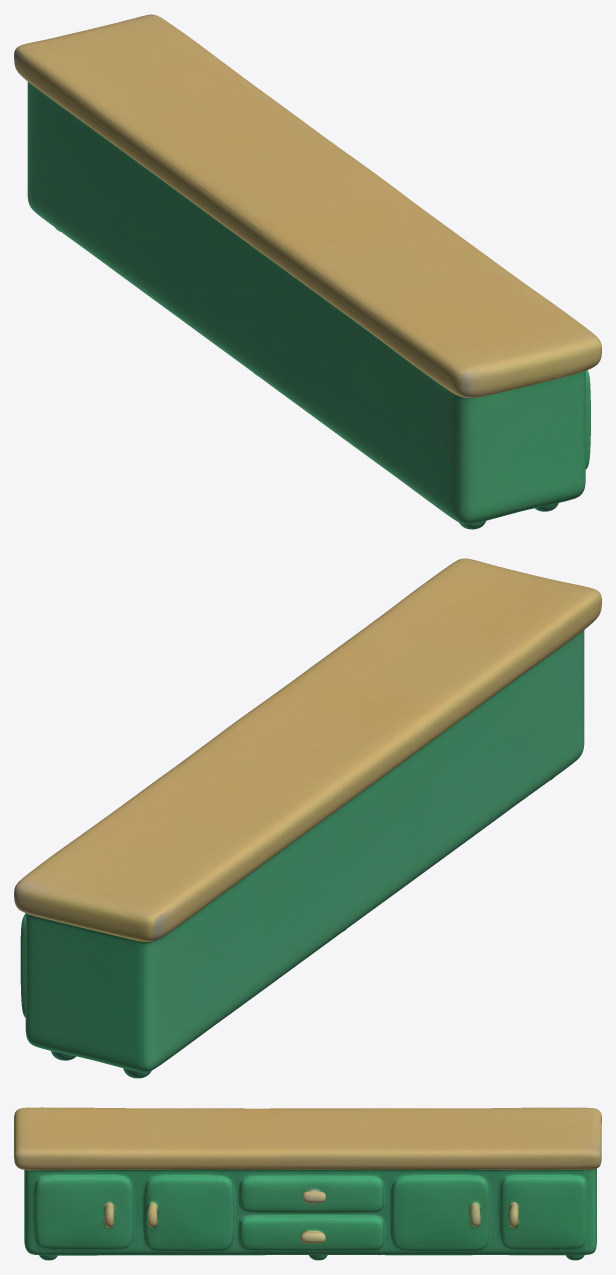
Rendered from DrawerCounterLong.glb.
3 views of the same model, one above another, from view 1: azimuth 30°, elevation 25°; view 2: azimuth 150°, elevation 25°; view 3: azimuth 270°, elevation 25° (orthographic). The views are drawn at different scales.
Parts seen in each view (by area): view 1: tripo_node_20a0524b-429d-4f46-9d28-1a09ac00f2f7; view 2: tripo_node_20a0524b-429d-4f46-9d28-1a09ac00f2f7; view 3: tripo_node_20a0524b-429d-4f46-9d28-1a09ac00f2f7.
Boxes of the visible parts, x1,y1,x2,y2 form: tripo_node_20a0524b-429d-4f46-9d28-1a09ac00f2f7: (14,14,601,529); tripo_node_20a0524b-429d-4f46-9d28-1a09ac00f2f7: (14,558,601,1078); tripo_node_20a0524b-429d-4f46-9d28-1a09ac00f2f7: (14,1107,601,1260).
Size of the model in its own units: 0.2185 by 0.223 by 1.
Materials: 1 (1 with a texture image).
